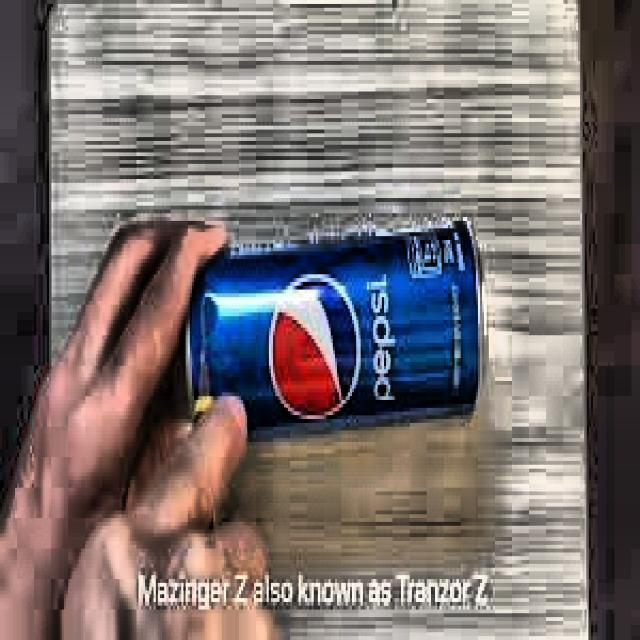Aluminum Can: (182, 208, 496, 456)
